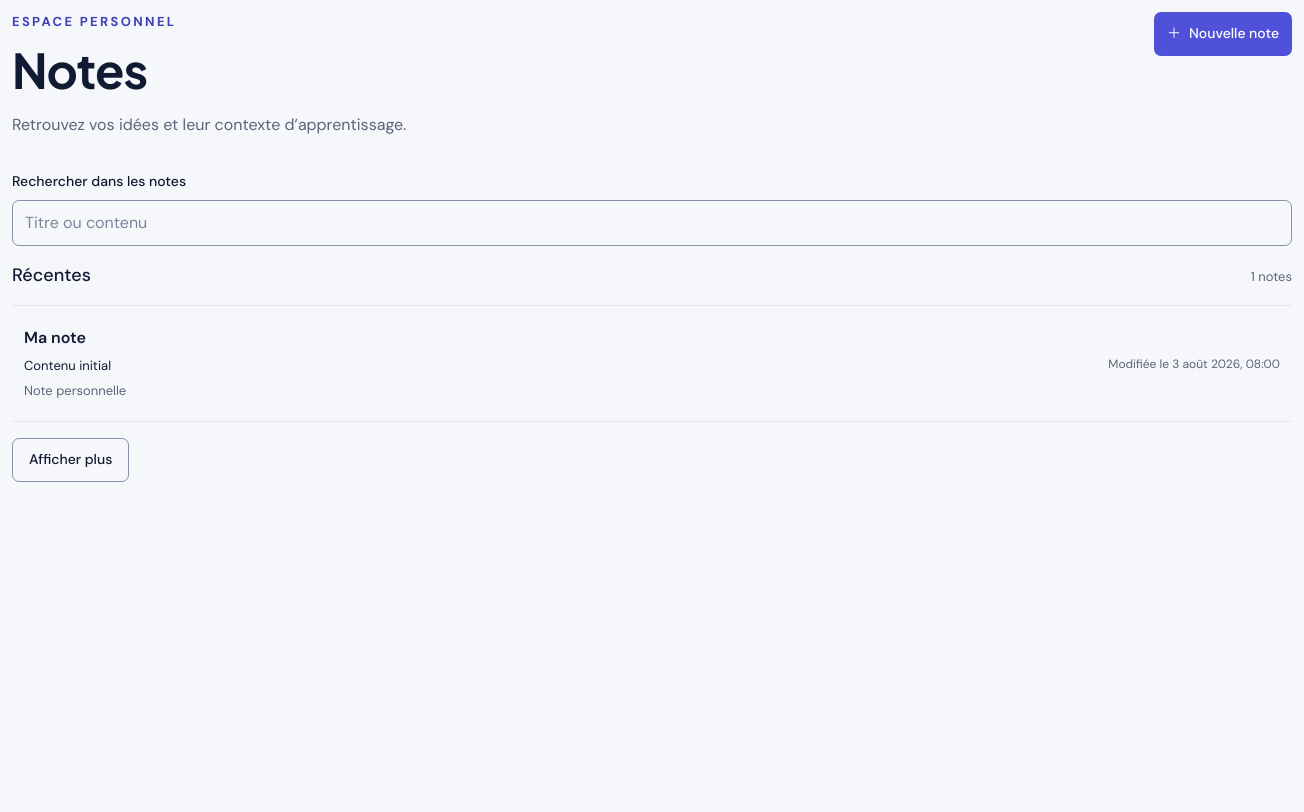
Test: NotesPage › conserve les notes chargées et reprend une page suivante en erreur
This screenshot has width=1304, height=812.
expect the heading "Ma note" is shown: met, box [24,327,86,348]
Click the button "Afficher plus": click(71, 460) [12,438,129,482]
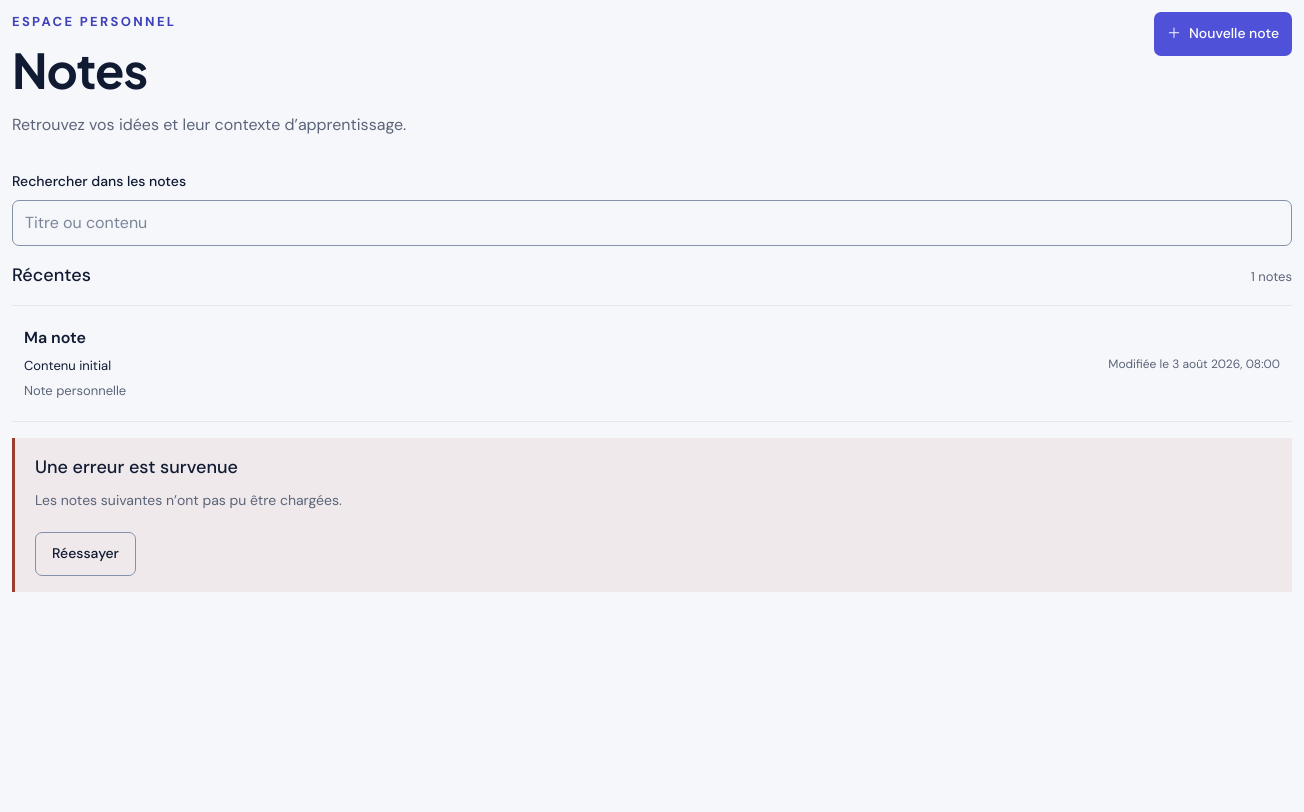
expect the heading "Ma note" is shown: met, box [24,327,86,348]
expect the text "Les notes suivantes n’ont pas pu être chargées." is shown: met, box [35,491,342,509]
expect the button "Afficher plus" is gone: met
Click the button "Réessayer": click(86, 554) [35,532,136,576]
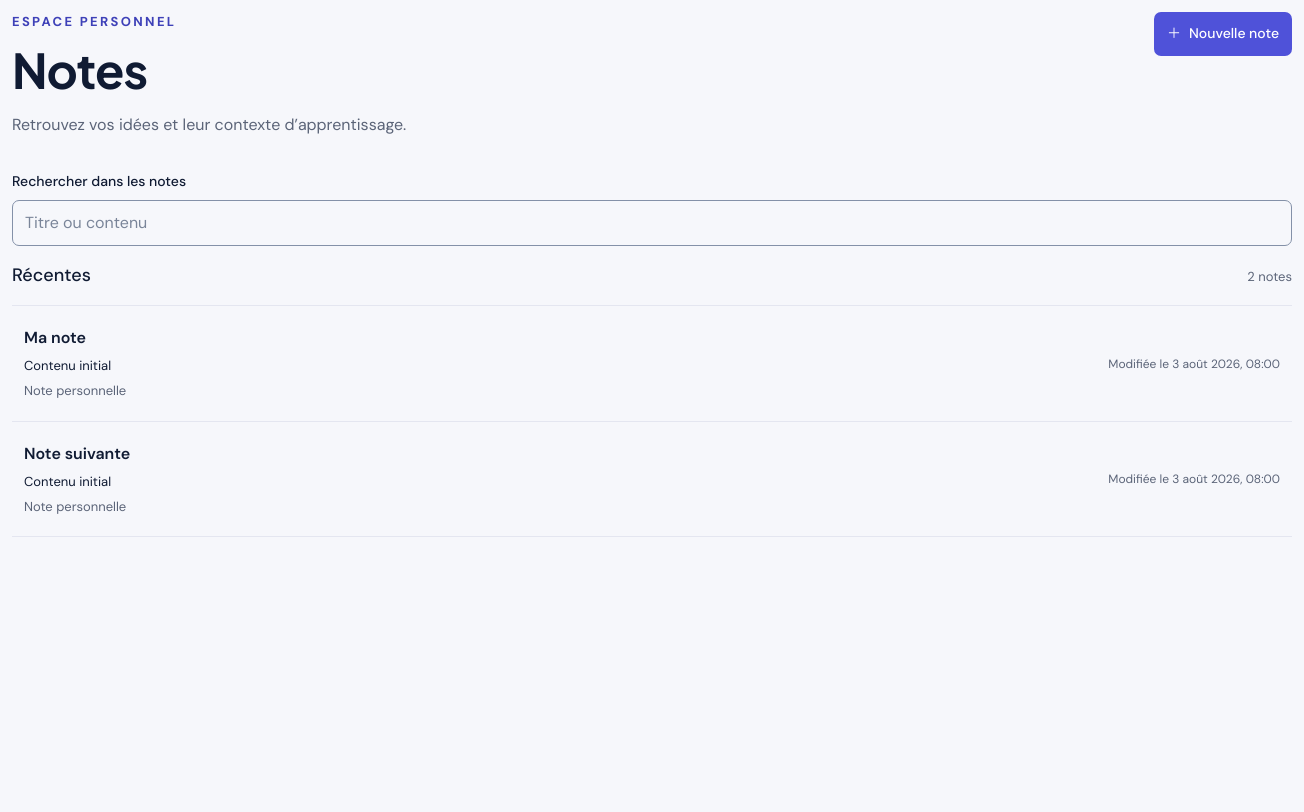
expect the heading "Note suivante" is shown: met, box [24,443,130,464]
